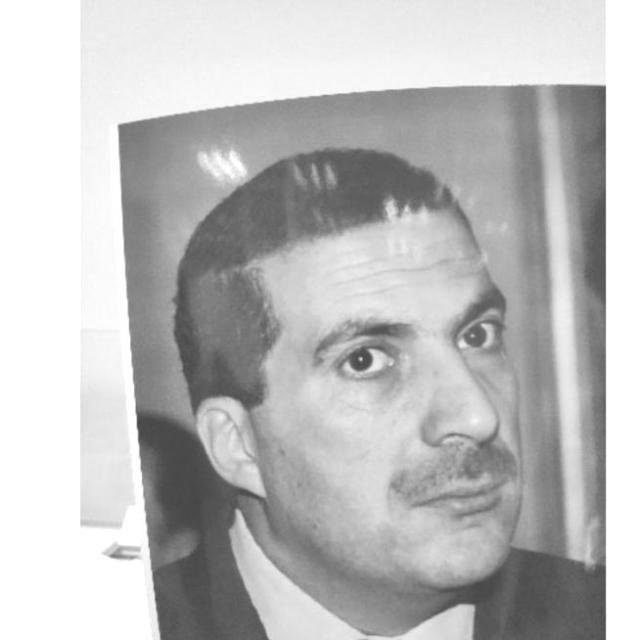fake: (126, 80, 607, 640)
